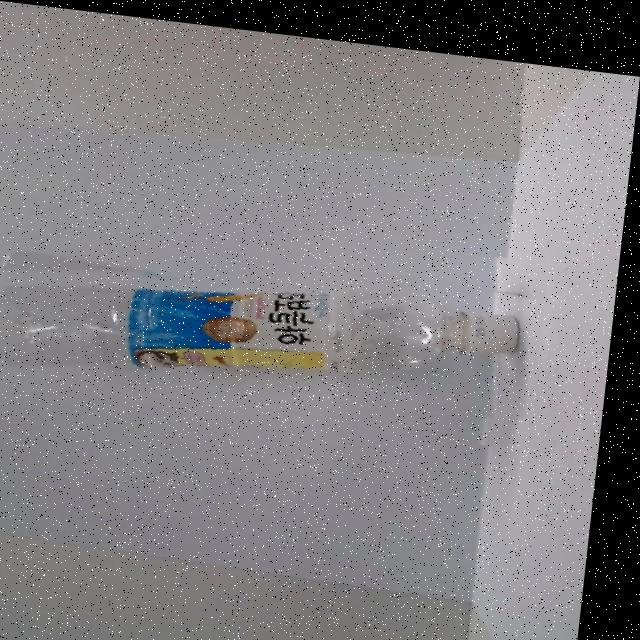litter: (0, 208, 564, 436), (464, 273, 568, 377)
